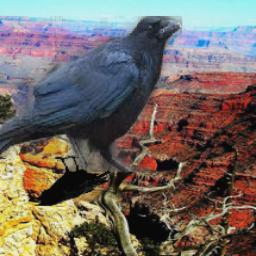Crow: (0, 16, 181, 172), (35, 155, 113, 206)
